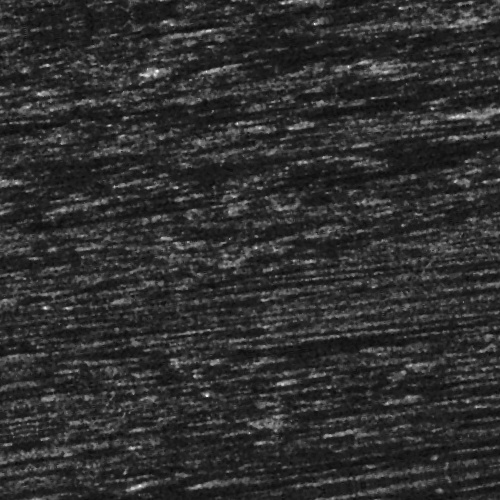object: (204, 411, 277, 428), (130, 468, 265, 477), (193, 20, 276, 27), (334, 2, 397, 11), (0, 193, 17, 198)
shadow: (241, 411, 472, 428), (0, 474, 170, 491), (197, 468, 500, 477), (366, 2, 500, 11), (0, 193, 204, 198), (235, 20, 311, 27)
